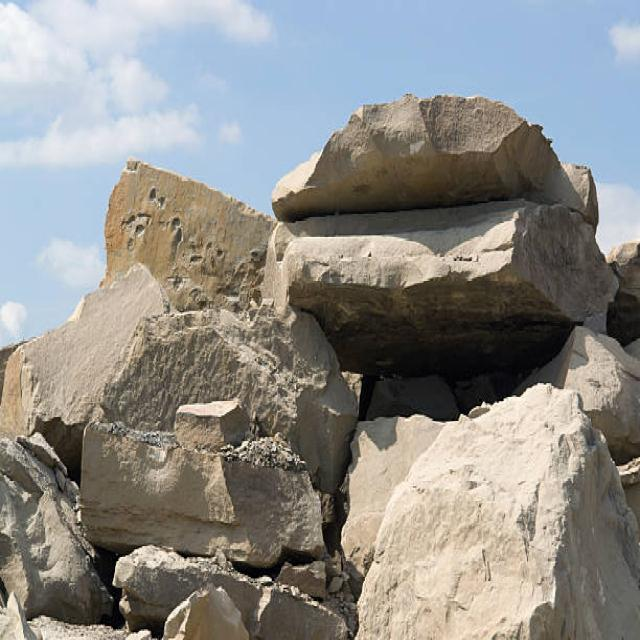Sedimentary: (1, 90, 639, 638)
